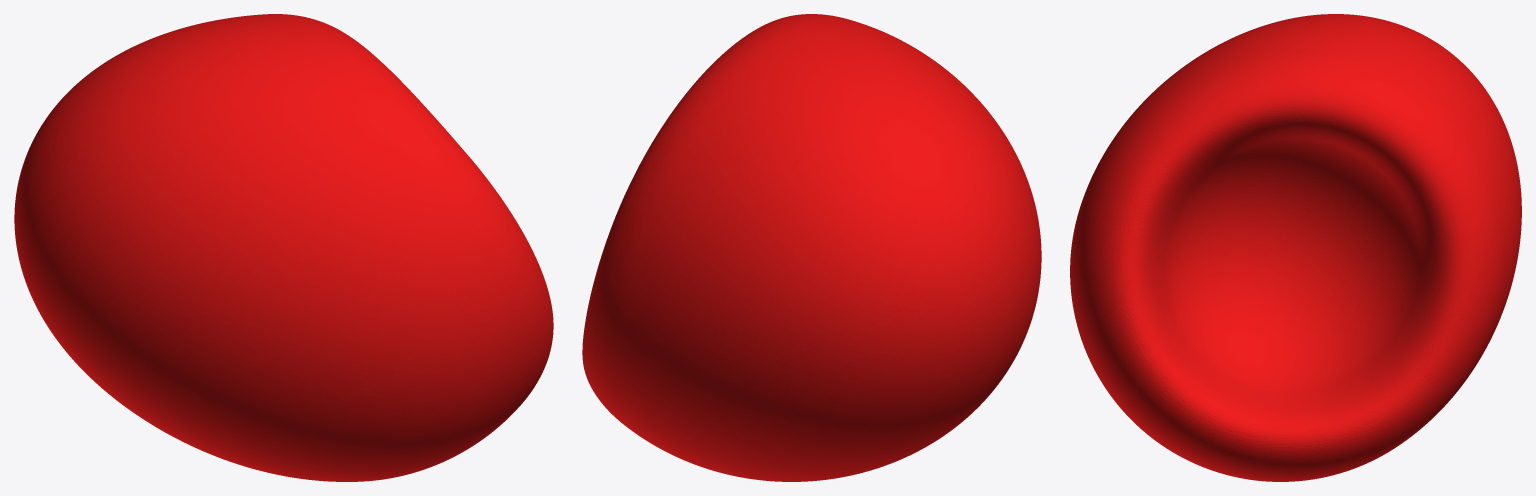
The model's file is birthmark.obj.
3 views of the same model, side by side, from view 1: azimuth 30°, elevation 25°; view 2: azimuth 150°, elevation 25°; view 3: azimuth 270°, elevation 25° (orthographic). The views are drawn at different scales.
Parts seen in each view (by area): view 1: model_4; view 2: model_4; view 3: model_4.
Part boxes in pixels (<box>): model_4: <box>14,14,553,481</box>; model_4: <box>582,14,1041,481</box>; model_4: <box>1070,14,1521,481</box>.
Bounding box in the file's own units: 127 × 123 × 128.
1 material, 1 textured.
